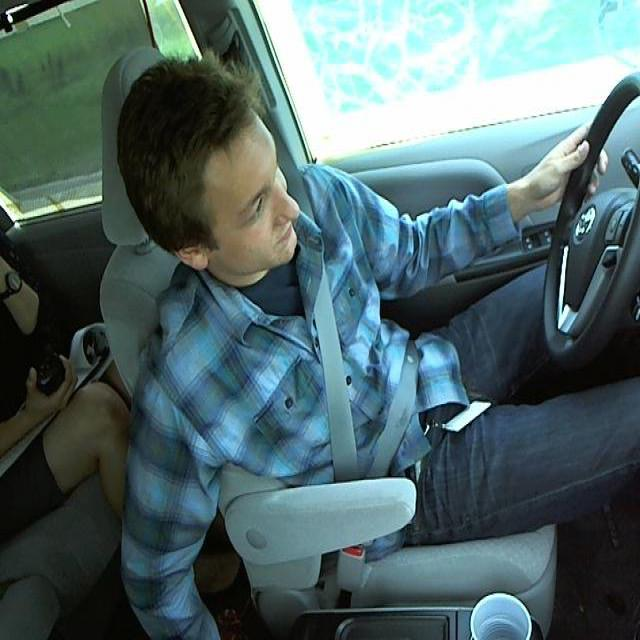seatbelt: (291, 235, 423, 496)
